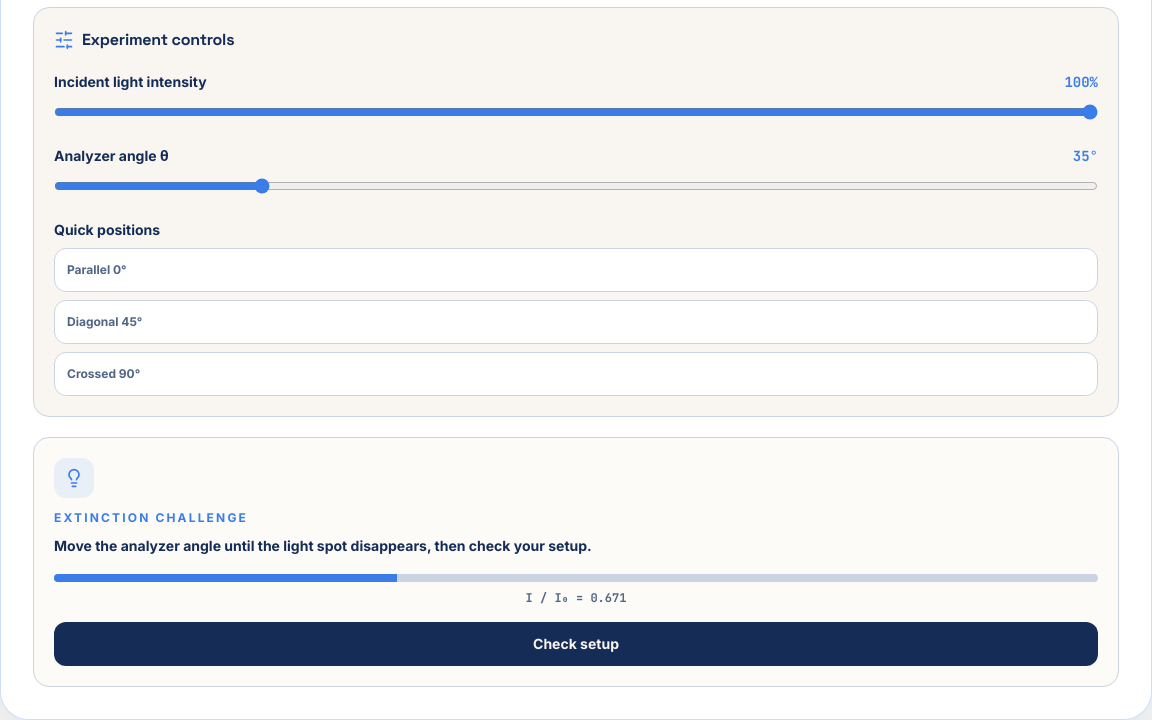
Test case: PolarizationActivity › lets the learner reach complete extinction
This screenshot has width=1152, height=720.
(page scrolled)
Click the button "Crossed 90°" at (104,374), box [54,352,1098,396]
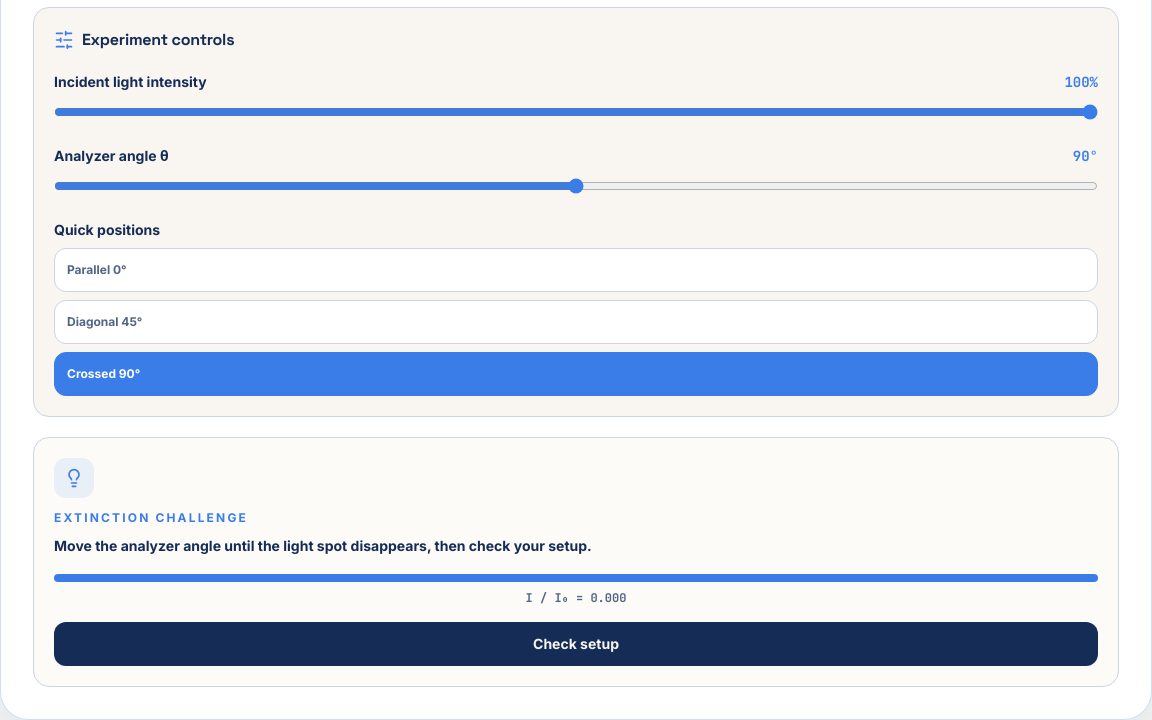
Click the button "Check setup" at (576,644), box [54,622,1098,666]
(page scrolled)
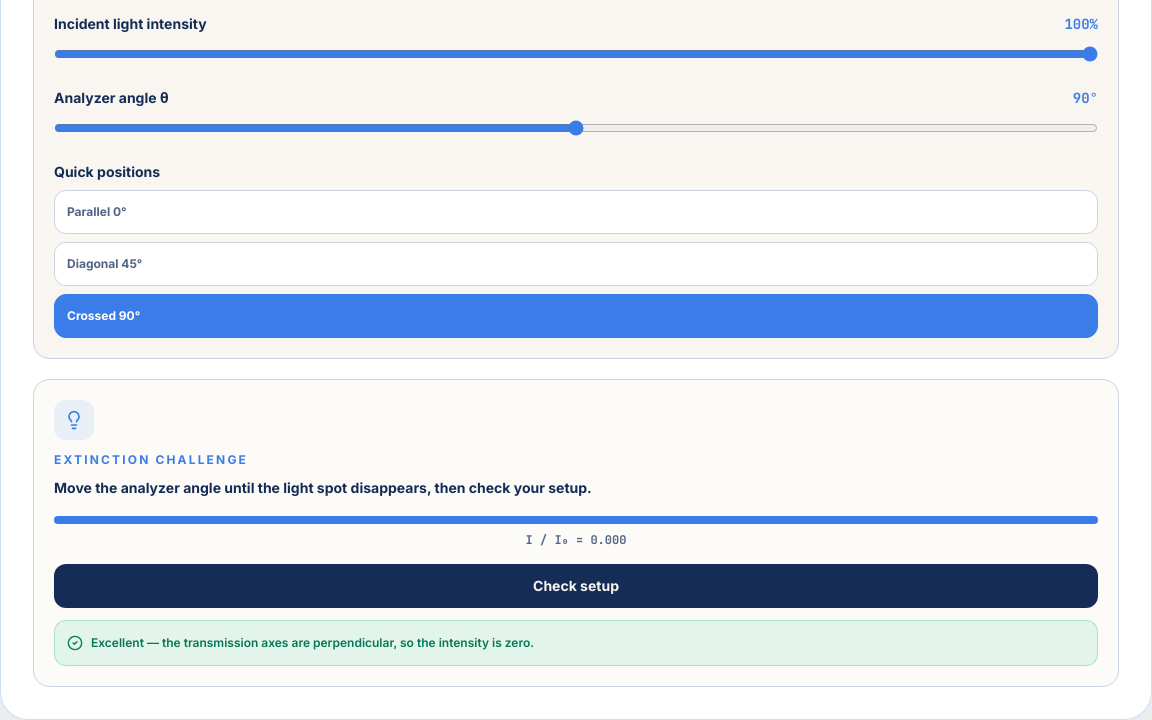
Expected: the message shows "Excellent", [91,635,534,650]
